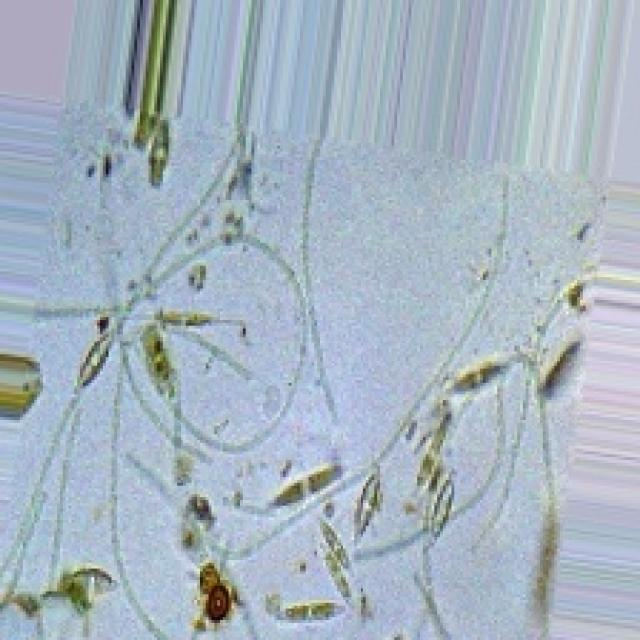Spiral_bacteria: (0, 97, 606, 637)
